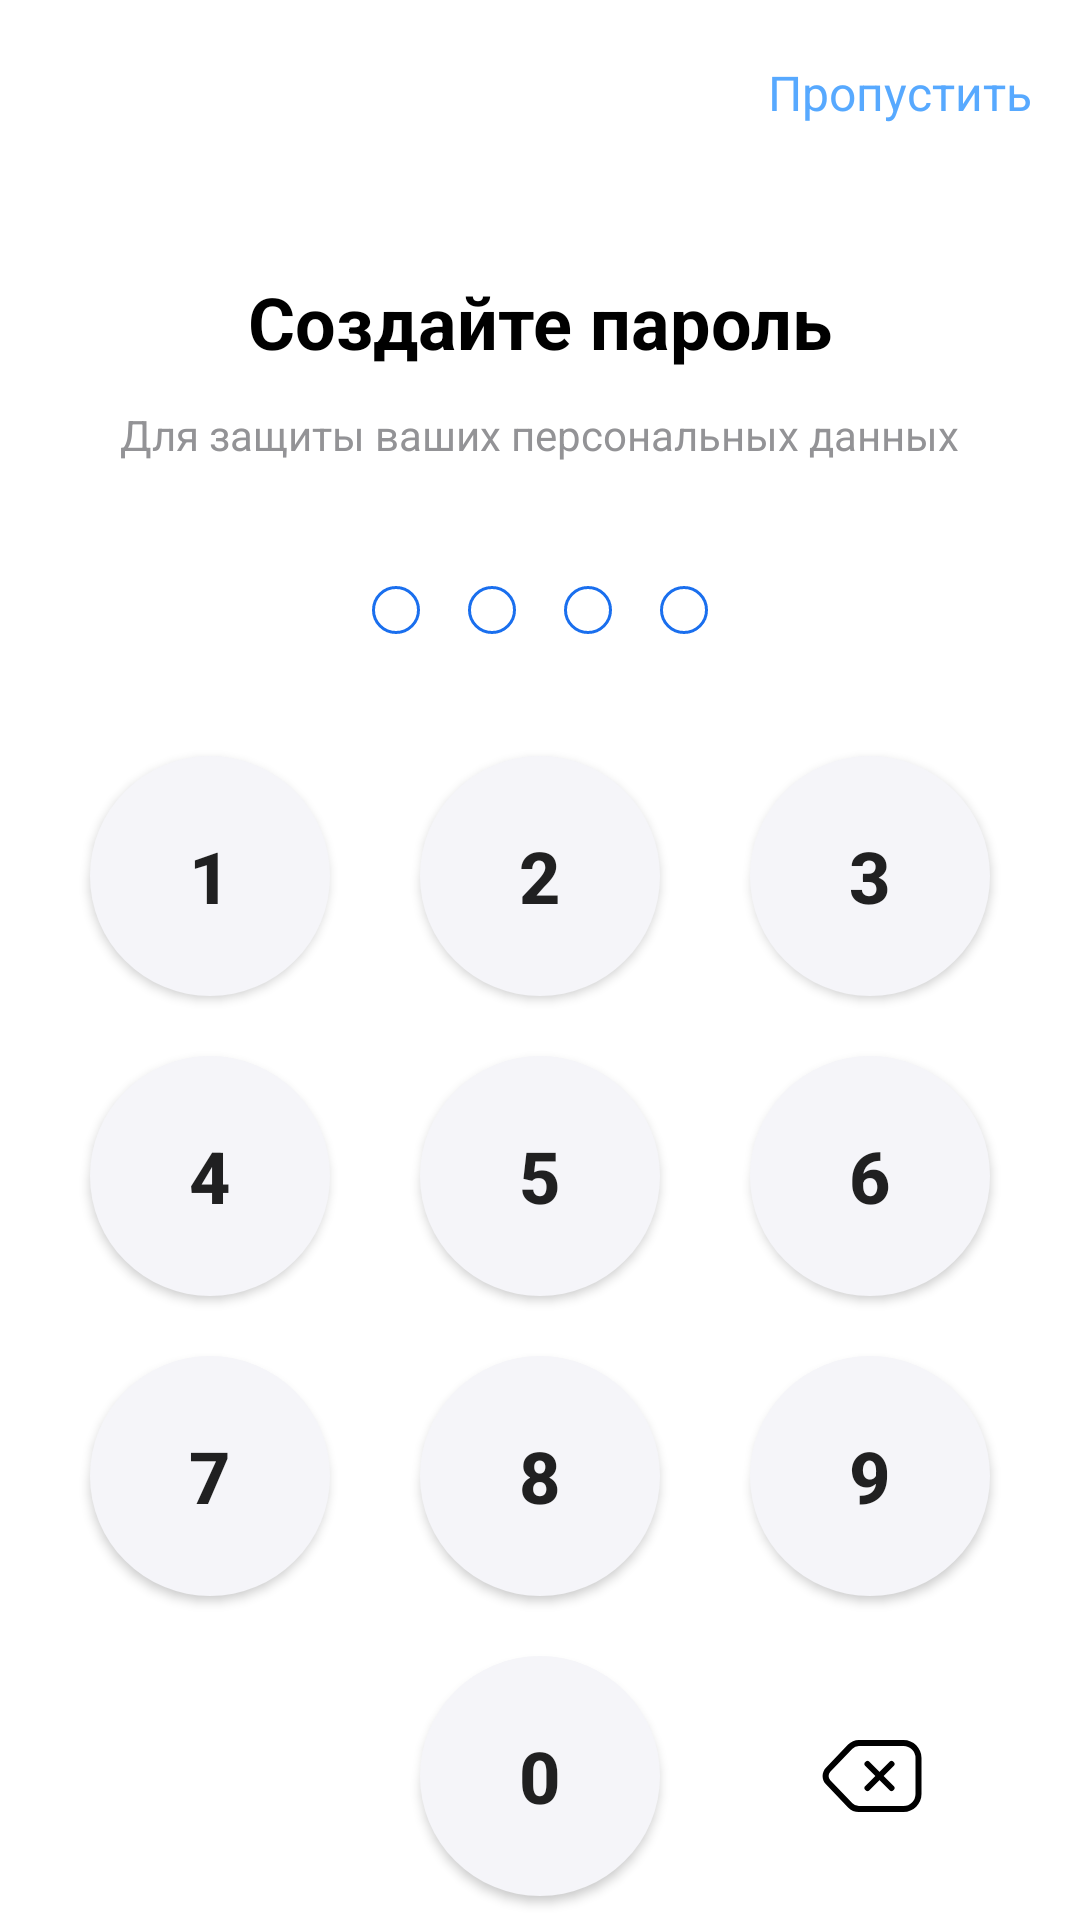

Icon click points for this 1080w x 1920h phone screenshot, format (x,y):
create password not collected: (396,610), (492,610), (588,610), (684,610)
delete: (872,1776)
